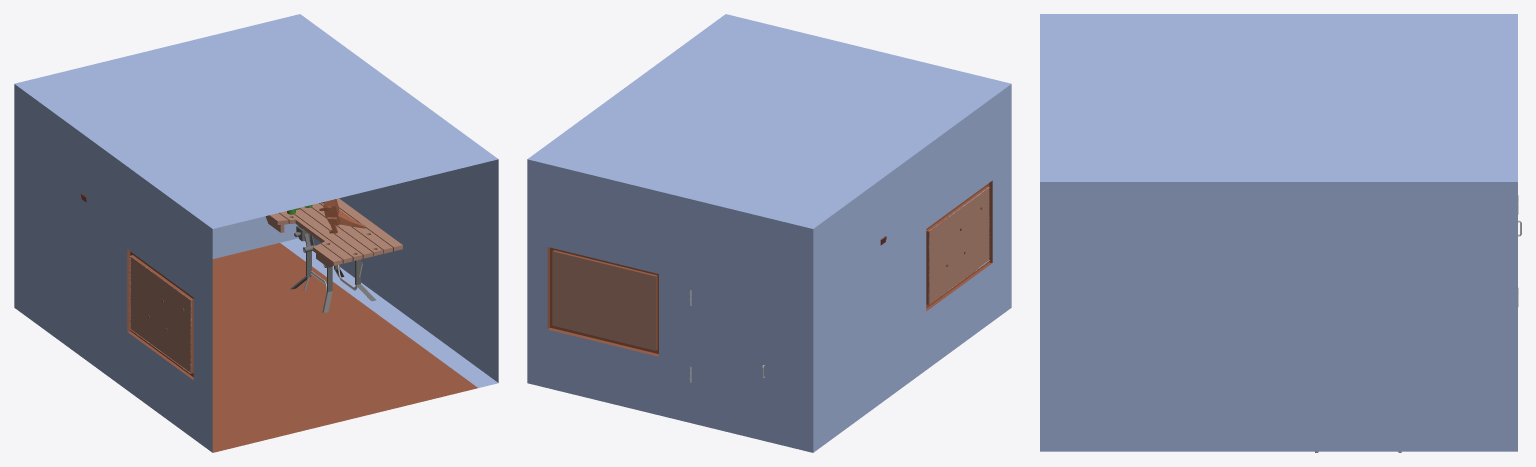
Rendered from Room_2.fbx.
3 views of the same model, side by side, from view 1: azimuth 30°, elevation 25°; view 2: azimuth 150°, elevation 25°; view 3: azimuth 270°, elevation 25° (orthographic). The views are drawn at different scales.
Parts seen in each view (by area): view 1: Room, Cube.007, Cylinder.001, Cube.011; view 2: Room; view 3: Room.
Part boxes in pixels (left/top/right/bottom): Room: left=14, top=14, right=498, bottom=452; Cube.007: left=265, top=198, right=402, bottom=267; Cylinder.001: left=290, top=225, right=376, bottom=312; Cube.011: left=319, top=199, right=365, bottom=233; Room: left=527, top=14, right=1011, bottom=452; Room: left=1040, top=14, right=1517, bottom=451.
Bounding box in the file's own units: 737 × 572 × 890.
